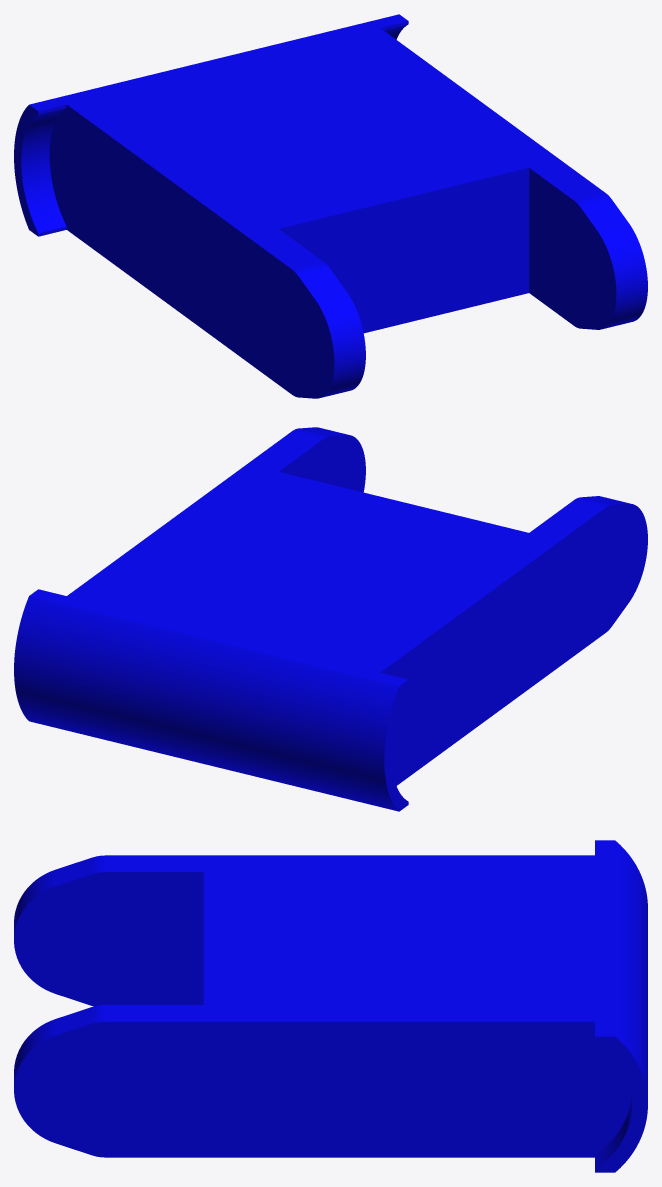
The model's file is Unity Assets - Stab Rave Beater Bot Chassis.dae.
3 views of the same model, one above another, from view 1: azimuth 30°, elevation 25°; view 2: azimuth 150°, elevation 25°; view 3: azimuth 270°, elevation 25° (orthographic). The views are drawn at different scales.
Parts seen in each view (by area): view 1: ID2; view 2: ID2; view 3: ID2.
Part boxes in pixels (x1=…): ID2: x1=14, y1=14, x2=647, y2=398; ID2: x1=14, y1=427, x2=647, y2=811; ID2: x1=14, y1=840, x2=647, y2=1172.
Bounding box in the file's own units: 0.1175 × 0.1605 × 0.038.
